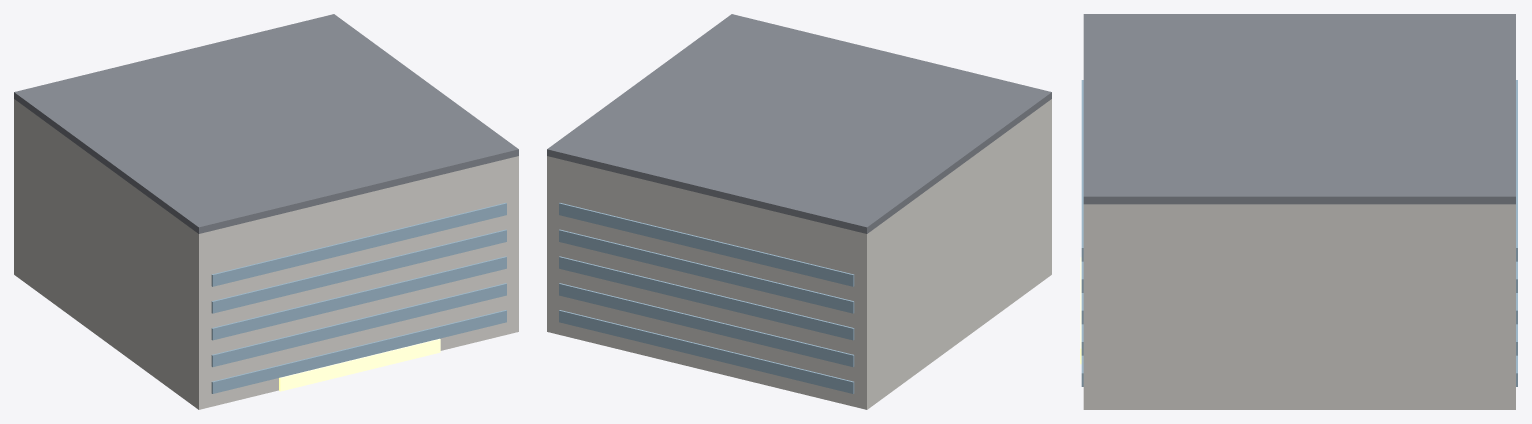
The model's file is hotel.glb.
3 views of the same model, side by side, from view 1: azimuth 30°, elevation 25°; view 2: azimuth 150°, elevation 25°; view 3: azimuth 270°, elevation 25° (orthographic). The views are drawn at different scales.
Parts seen in each view (by area): view 1: Cube, Cube.011, Cube.003, Cube.005, Cube.007, Cube.009, Cube.001, Cube.012; view 2: Cube, Cube.011, Cube.004, Cube.006, Cube.008, Cube.010, Cube.002; view 3: Cube, Cube.011, Cube.009.
Boxes of the visible parts, bbox=[...] form: Cube: bbox=[14, 99, 518, 409]; Cube.011: bbox=[14, 14, 518, 233]; Cube.003: bbox=[211, 283, 506, 367]; Cube.005: bbox=[211, 256, 506, 340]; Cube.007: bbox=[211, 229, 506, 313]; Cube.009: bbox=[211, 203, 506, 286]; Cube.001: bbox=[211, 310, 506, 393]; Cube.012: bbox=[279, 338, 440, 391]; Cube: bbox=[547, 99, 1051, 409]; Cube.011: bbox=[547, 14, 1051, 233]; Cube.004: bbox=[559, 283, 854, 367]; Cube.006: bbox=[559, 256, 854, 340]; Cube.008: bbox=[559, 229, 854, 313]; Cube.010: bbox=[559, 203, 854, 286]; Cube.002: bbox=[559, 310, 854, 393]; Cube: bbox=[1083, 204, 1515, 409]; Cube.011: bbox=[1083, 14, 1515, 204]; Cube.009: bbox=[1081, 80, 1083, 261].
Bounding box in the file's own units: 40 × 21.8 × 40.55.
